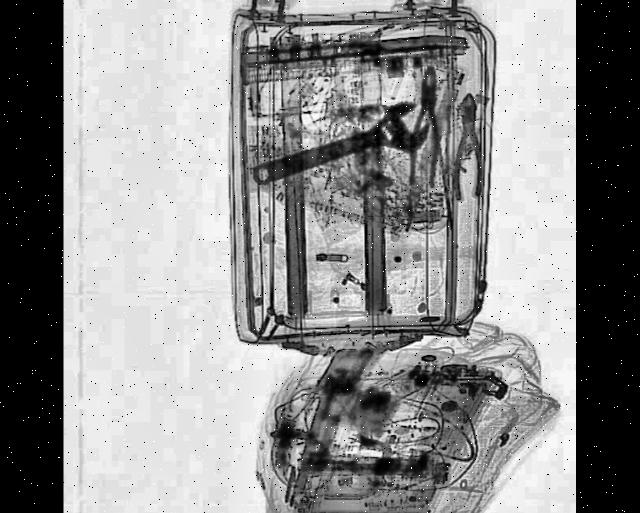Pliers: (408, 65, 448, 192), (456, 93, 486, 202)
Wrench: (250, 95, 433, 204)
